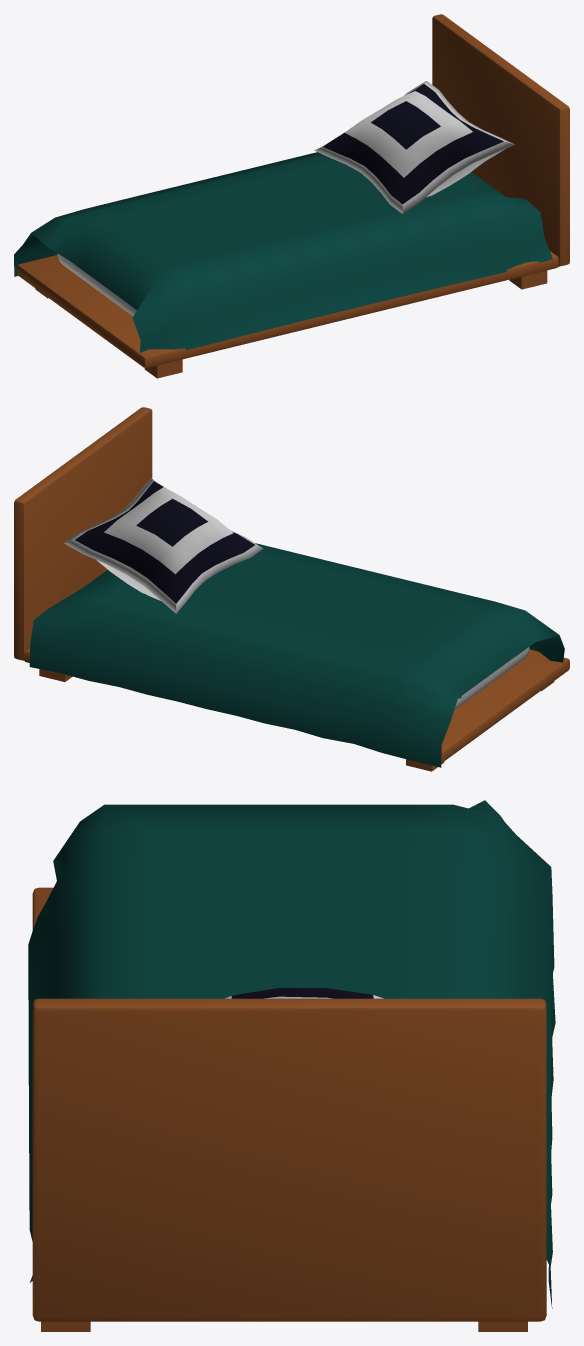
Rendered from Cama individual 1.fbx.
The picture shows the model from 3 angles, top to bottom: view 1: azimuth 30°, elevation 25°; view 2: azimuth 150°, elevation 25°; view 3: azimuth 270°, elevation 25°; orthographic projection. The views are drawn at different scales.
Parts seen in each view (by area): view 1: Cama Individual; view 2: Cama Individual; view 3: Cama Individual.
Boxes of the visible parts, left/top/right/bottom form: Cama Individual: left=14, top=14, right=569, bottom=378; Cama Individual: left=14, top=407, right=569, bottom=771; Cama Individual: left=28, top=800, right=555, bottom=1331.
Bounding box in the file's own units: 156 × 60.09 × 83.07.
